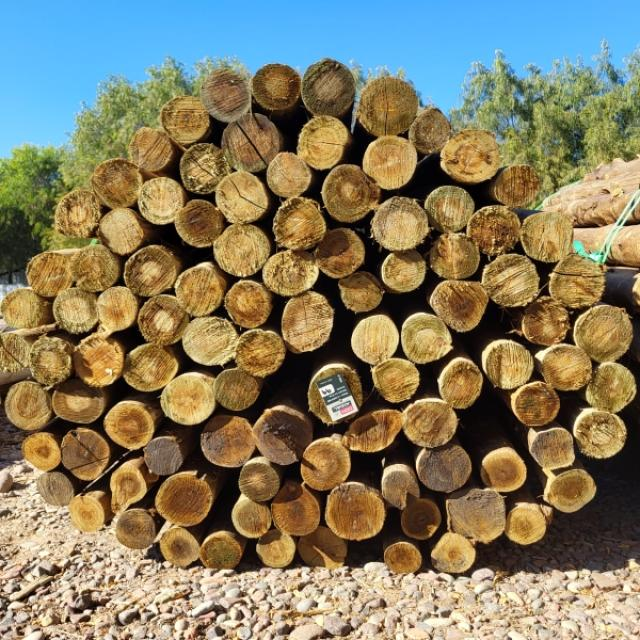package: (1, 56, 634, 574)
